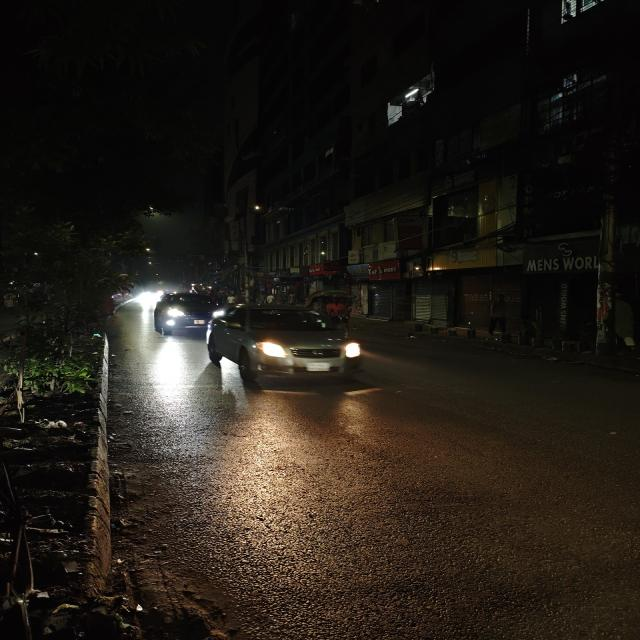car: (202, 304, 367, 384), (149, 291, 220, 337)
rickshaw: (305, 291, 364, 324)
